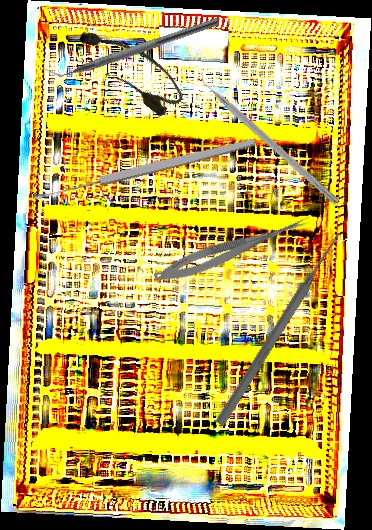Cannula: (73, 13, 190, 121)
Chopper: (192, 64, 347, 206), (41, 5, 221, 88)
Micro Scissor: (150, 206, 314, 291)
Pusher: (213, 229, 346, 428)
Surgical Spoon: (30, 135, 258, 204)
